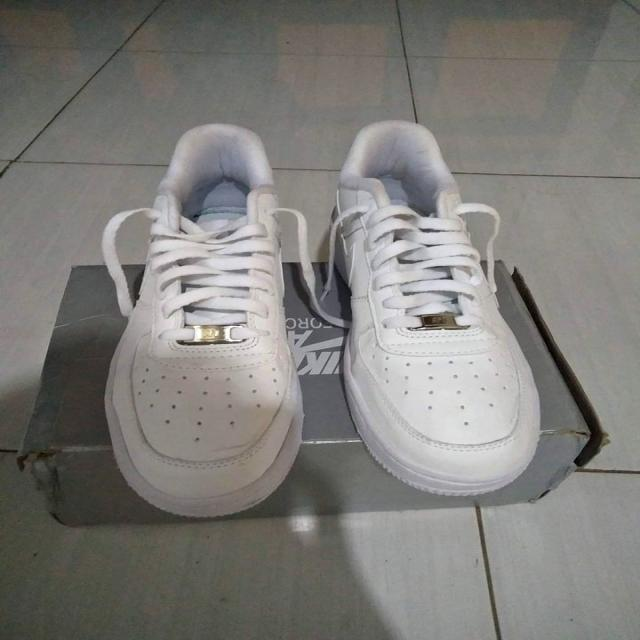nike fake air force: (330, 114, 542, 494), (109, 120, 310, 515)
